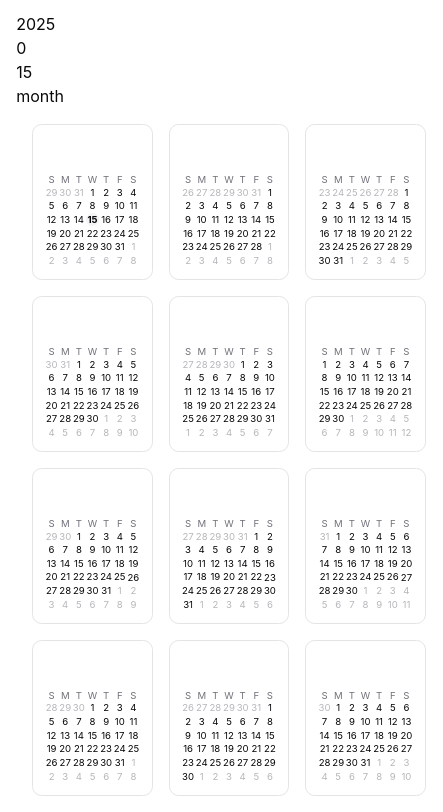
Test: YearView › Click Interactions › clicking day cell navigates to day view
Click the button with test id "year-day-2025-03-2025-03-10" at [338, 220], box [332,213,344,226]
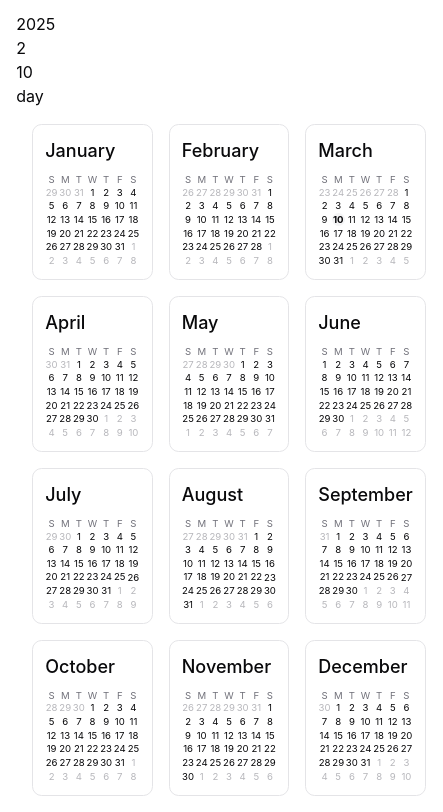
Check: the text with test id "ctx-view" reads "day", box [16,86,44,106]
Check: the text with test id "ctx-month" reads "2", box [16,38,26,58]
Check: the text with test id "ctx-date" reads "10", box [16,62,33,82]
